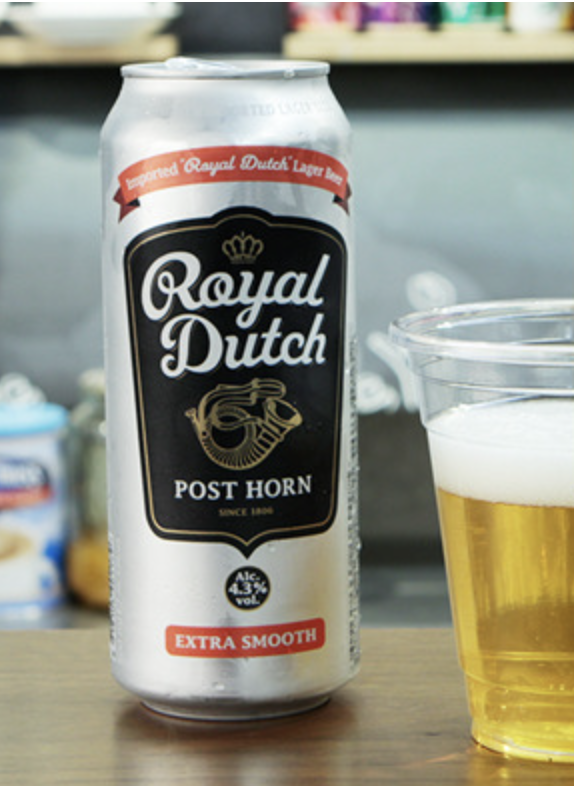beer-can: (102, 53, 352, 723)
